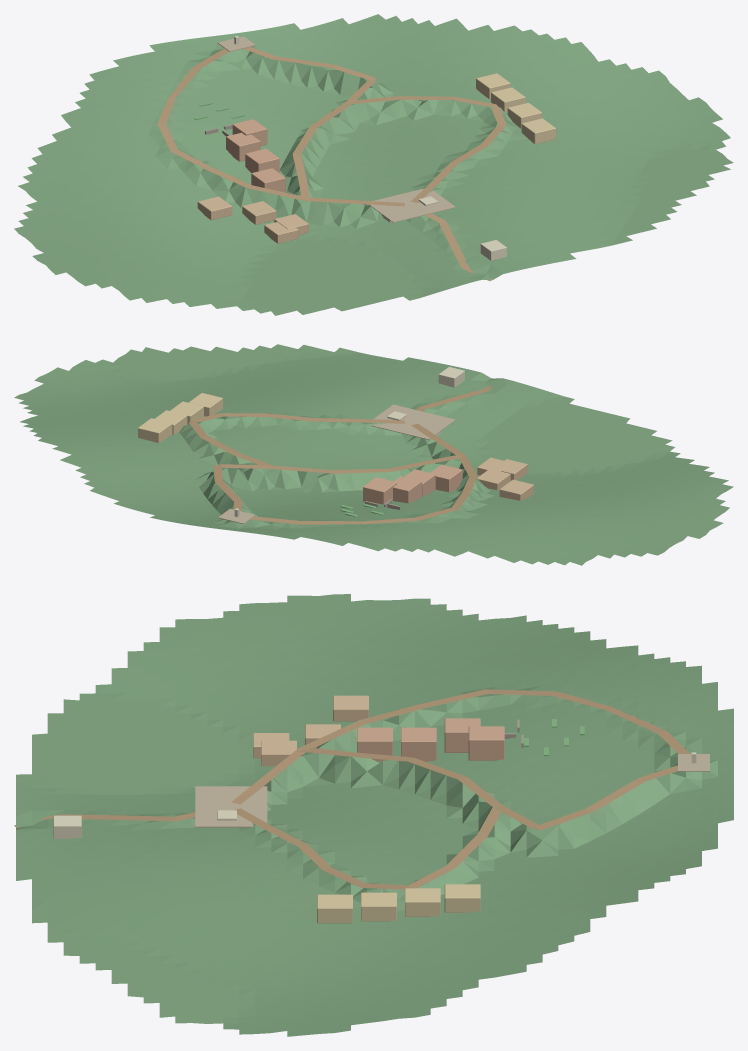
Rendered from Ilha_Bruta_003.fbx.
3 renders of one model, top to bottom at view 1: azimuth 30°, elevation 25°; view 2: azimuth 150°, elevation 25°; view 3: azimuth 270°, elevation 25°, orthographic. The views are drawn at different scales.
Parts seen in each view (by area): view 1: Terreno_Ilha_Caminhavel_260x180, Rota_Principal_Cais_Largo_Baixa_Alta_Mirante, Rota_Fundos_Hortas_Ruina_Retorno, Rota_Leste, Largo_Placa_Central, A3, L1, A2, A1, B4, B3, L2 (+4 smaller); view 2: Terreno_Ilha_Caminhavel_260x180, Rota_Principal_Cais_Largo_Baixa_Alta_Mirante, Rota_Fundos_Hortas_Ruina_Retorno, Rota_Leste, Largo_Placa_Central, A4, A3, A1, L4, B4, B3, L1 (+4 smaller); view 3: Terreno_Ilha_Caminhavel_260x180, Rota_Principal_Cais_Largo_Baixa_Alta_Mirante, Rota_Fundos_Hortas_Ruina_Retorno, Largo_Placa_Central, Rota_Leste, A4, A2, L1, L2, L4, L3, A1 (+3 smaller).
Part boxes in pixels (box(x1,y1,x2,y2)): Terreno_Ilha_Caminhavel_260x180: box(14, 14, 733, 315); Rota_Principal_Cais_Largo_Baixa_Alta_Mirante: box(243, 47, 492, 281); Rota_Fundos_Hortas_Ruina_Retorno: box(157, 48, 404, 206); Rota_Leste: box(350, 96, 506, 202); Largo_Placa_Central: box(369, 188, 455, 222); A3: box(226, 132, 260, 161); L1: box(521, 118, 556, 144); A2: box(245, 148, 279, 172); A1: box(251, 168, 285, 192); B4: box(197, 196, 232, 220); B3: box(242, 201, 276, 224); L2: box(507, 102, 542, 128); Terreno_Ilha_Caminhavel_260x180: box(14, 344, 733, 565); Rota_Principal_Cais_Largo_Baixa_Alta_Mirante: box(213, 378, 493, 511); Rota_Fundos_Hortas_Ruina_Retorno: box(251, 423, 477, 524); Rota_Leste: box(189, 413, 404, 466); Largo_Placa_Central: box(371, 404, 455, 439); A4: box(363, 477, 397, 504); A3: box(393, 476, 421, 503); A1: box(430, 464, 462, 492); L4: box(138, 418, 172, 442); B4: box(499, 479, 533, 500); B3: box(477, 469, 510, 489); L1: box(188, 393, 222, 416); Terreno_Ilha_Caminhavel_260x180: box(16, 594, 733, 1036); Rota_Principal_Cais_Largo_Baixa_Alta_Mirante: box(14, 748, 677, 830); Rota_Fundos_Hortas_Ruina_Retorno: box(231, 689, 690, 804); Largo_Placa_Central: box(195, 786, 267, 827); Rota_Leste: box(234, 806, 501, 889); A4: box(468, 726, 504, 760); A2: box(401, 727, 436, 761); L1: box(317, 894, 352, 923); L2: box(361, 892, 396, 921); L4: box(444, 884, 480, 912); L3: box(405, 888, 440, 916); A1: box(357, 727, 392, 761).
Bounding box in the file's own units: 257 × 20.75 × 180.
